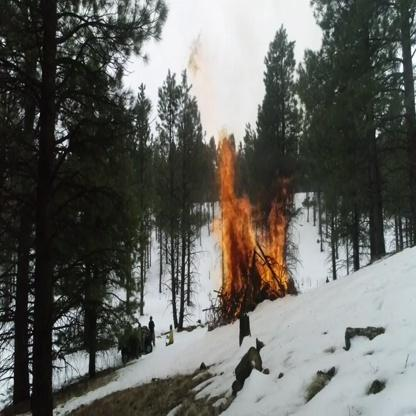Fire: (184, 30, 295, 321)
